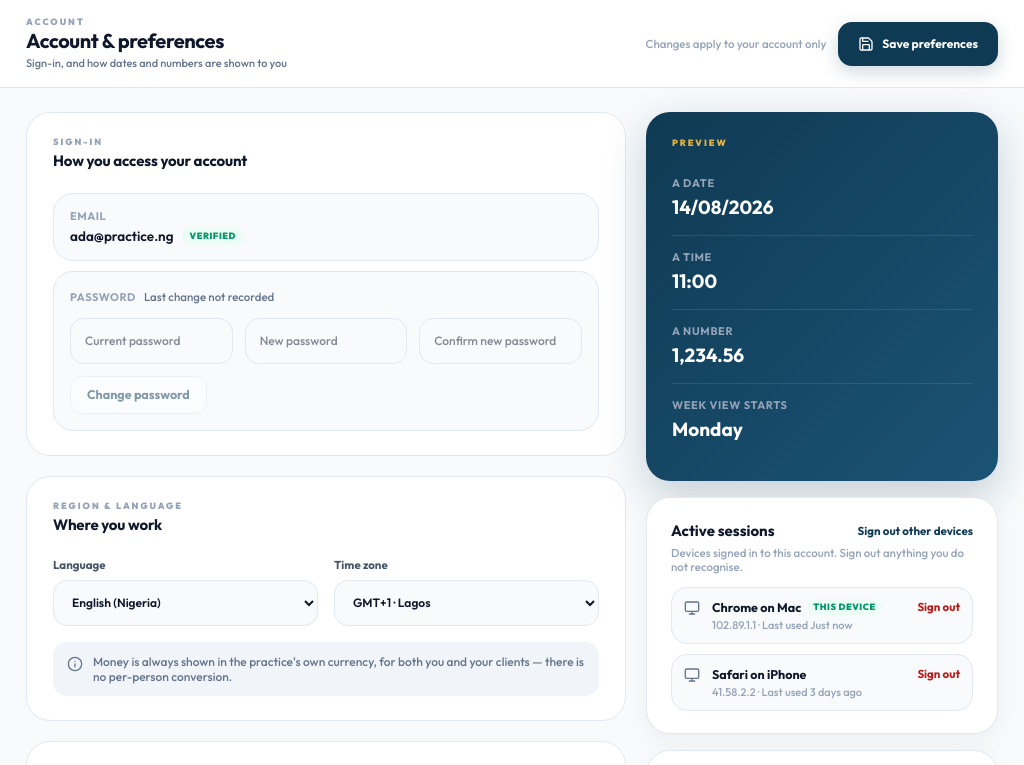
saving preferences › confirms once it has actually saved
Check: the text "ada@practice.ng" is shown, box [70,226,174,246]
Click the button "Save preferences".
click(918, 44)  # box [838,22,998,66]
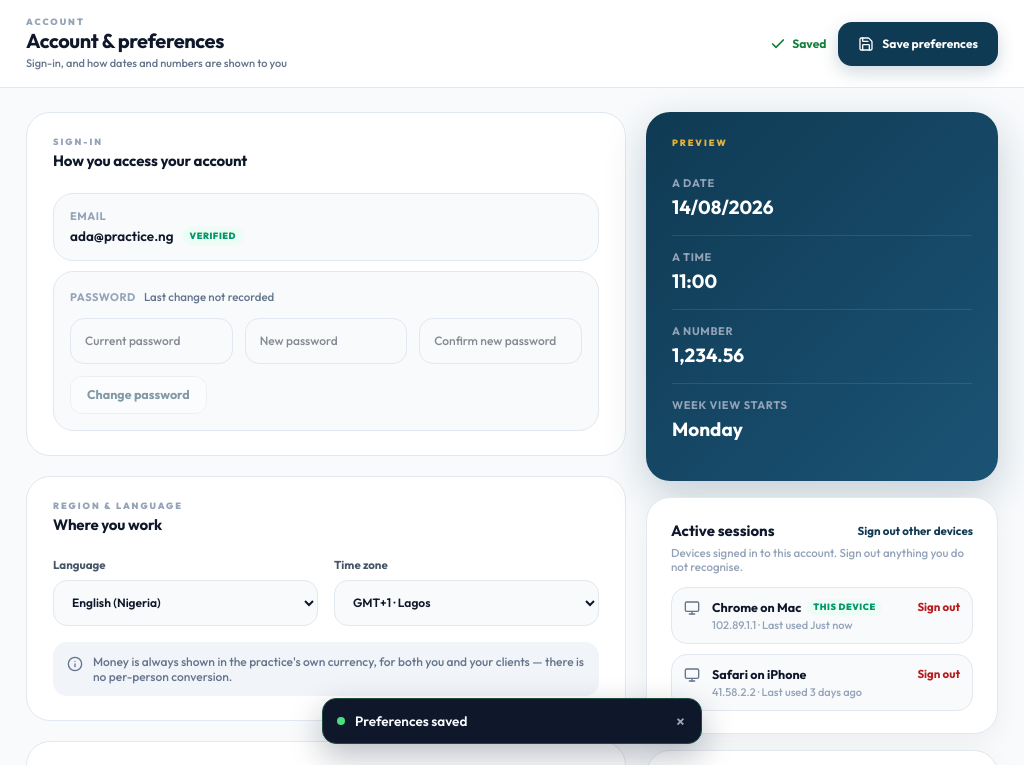
Check: the text "Saved" is shown, box [770,34,826,52]
